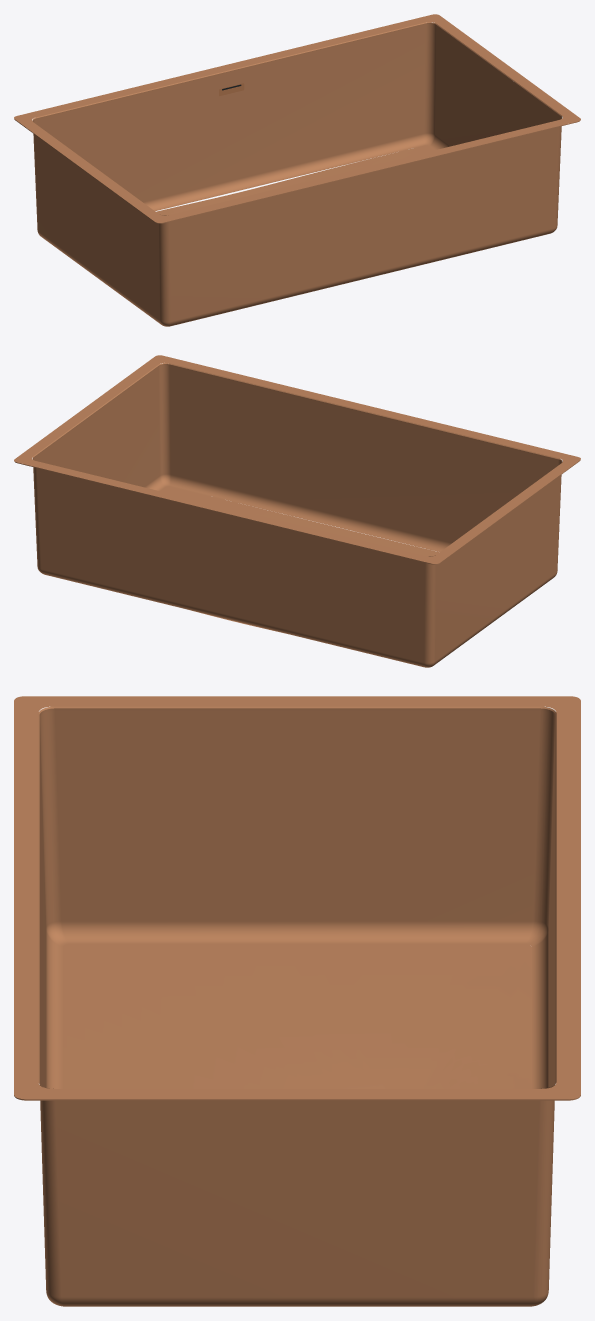
Rendered from lava_loica-lody70-cobre.glb.
3 renders of one model, top to bottom at view 1: azimuth 30°, elevation 25°; view 2: azimuth 150°, elevation 25°; view 3: azimuth 270°, elevation 25°, orthographic. The views are drawn at different scales.
Visible parts, largest first — view 1: Lody · paredes da cuba, Lody · aba 20 mm · exterior R10, Lody · fundo com abertura circular, Lody · transição da abertura, Lody · espessura da aba; view 2: Lody · paredes da cuba, Lody · aba 20 mm · exterior R10, Lody · fundo com abertura circular, Lody · transição da abertura, Lody · espessura da aba; view 3: Lody · paredes da cuba, Lody · fundo com abertura circular, Lody · aba 20 mm · exterior R10, Lody · transição da abertura, Lody · espessura da aba.
Boxes of the visible parts, x1,y1,x2,y2 form: Lody · paredes da cuba: [33, 23, 561, 326]; Lody · aba 20 mm · exterior R10: [14, 14, 580, 222]; Lody · fundo com abertura circular: [156, 145, 434, 215]; Lody · transição da abertura: [32, 22, 562, 215]; Lody · espessura da aba: [14, 119, 580, 223]; Lody · paredes da cuba: [33, 364, 561, 667]; Lody · aba 20 mm · exterior R10: [14, 355, 580, 563]; Lody · fundo com abertura circular: [160, 486, 439, 632]; Lody · transição da abertura: [32, 363, 562, 556]; Lody · espessura da aba: [14, 460, 580, 564]; Lody · paredes da cuba: [39, 708, 555, 1306]; Lody · fundo com abertura circular: [63, 943, 531, 1088]; Lody · aba 20 mm · exterior R10: [14, 696, 580, 1099]; Lody · transição da abertura: [38, 706, 556, 1088]; Lody · espessura da aba: [14, 1095, 580, 1100].
Size of the model in its own units: 0.74 by 0.214 by 0.44.
